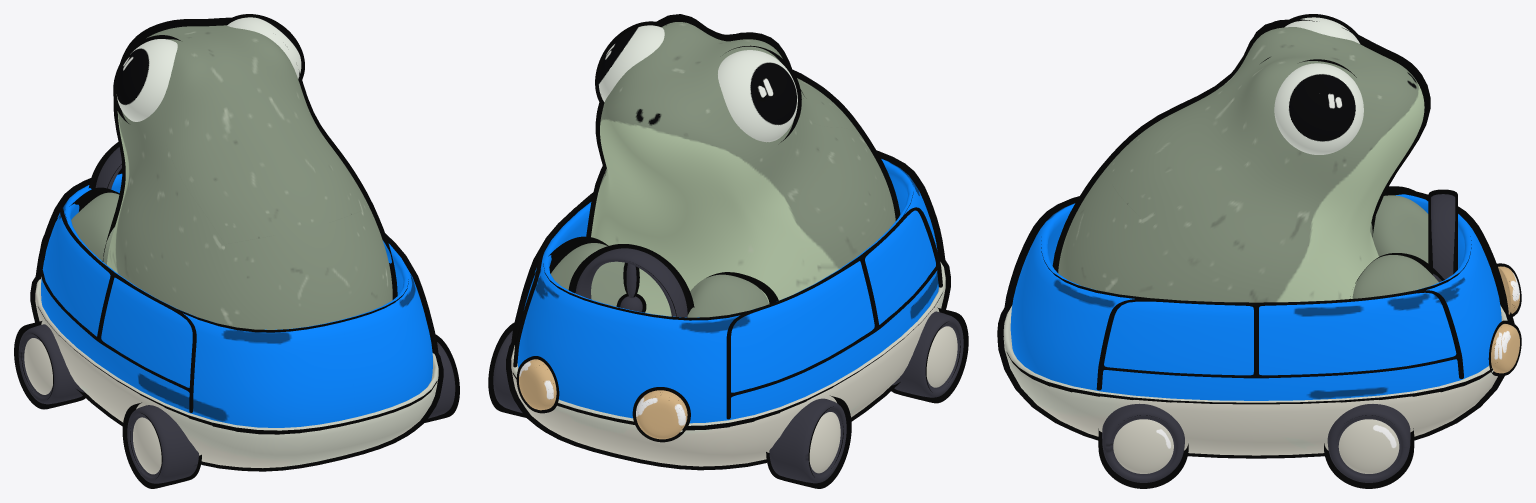
3 views of the same model, side by side, from view 1: azimuth 30°, elevation 25°; view 2: azimuth 150°, elevation 25°; view 3: azimuth 270°, elevation 25° (orthographic). The views are drawn at different scales.
Visible parts, largest first — view 1: frog, frog.001, body_cover, body.001, tire.001, body.004, eyes.001; view 2: frog, frog.001, body.001, body_cover, tire.001, body.004, handle.001, head lighht.001, eyes.001; view 3: frog, frog.001, body_cover, body.001, body.004, tire.001, handle.001, head lighht.001.
Boxes of the visible parts, box(x1,y1,x2,y2) form: frog: box(18, 17, 455, 483); frog.001: box(43, 17, 397, 299); body_cover: box(30, 277, 443, 471); body.001: box(37, 206, 435, 412); tire.001: box(14, 321, 459, 488); body.004: box(35, 168, 438, 368); eyes.001: box(113, 14, 304, 123); frog: box(493, 22, 963, 483); frog.001: box(520, 14, 900, 322); body.001: box(513, 192, 942, 419); body_cover: box(506, 260, 950, 470); tire.001: box(488, 307, 968, 488); body.004: box(510, 150, 946, 361); handle.001: box(568, 244, 694, 316); head lighht.001: box(516, 356, 690, 442); eyes.001: box(595, 21, 801, 142); frog: box(1003, 17, 1519, 482); frog.001: box(1052, 19, 1444, 298); body_cover: box(997, 308, 1514, 458); body.001: box(1096, 186, 1463, 390); body.004: box(1003, 192, 1509, 336); tire.001: box(1098, 415, 1414, 488); handle.001: box(1428, 189, 1457, 274); head lighht.001: box(1488, 263, 1521, 376).
Size of the model in its own units: 0.816 by 0.93 by 1.17.
Materials: 3 (1 with a texture image).
